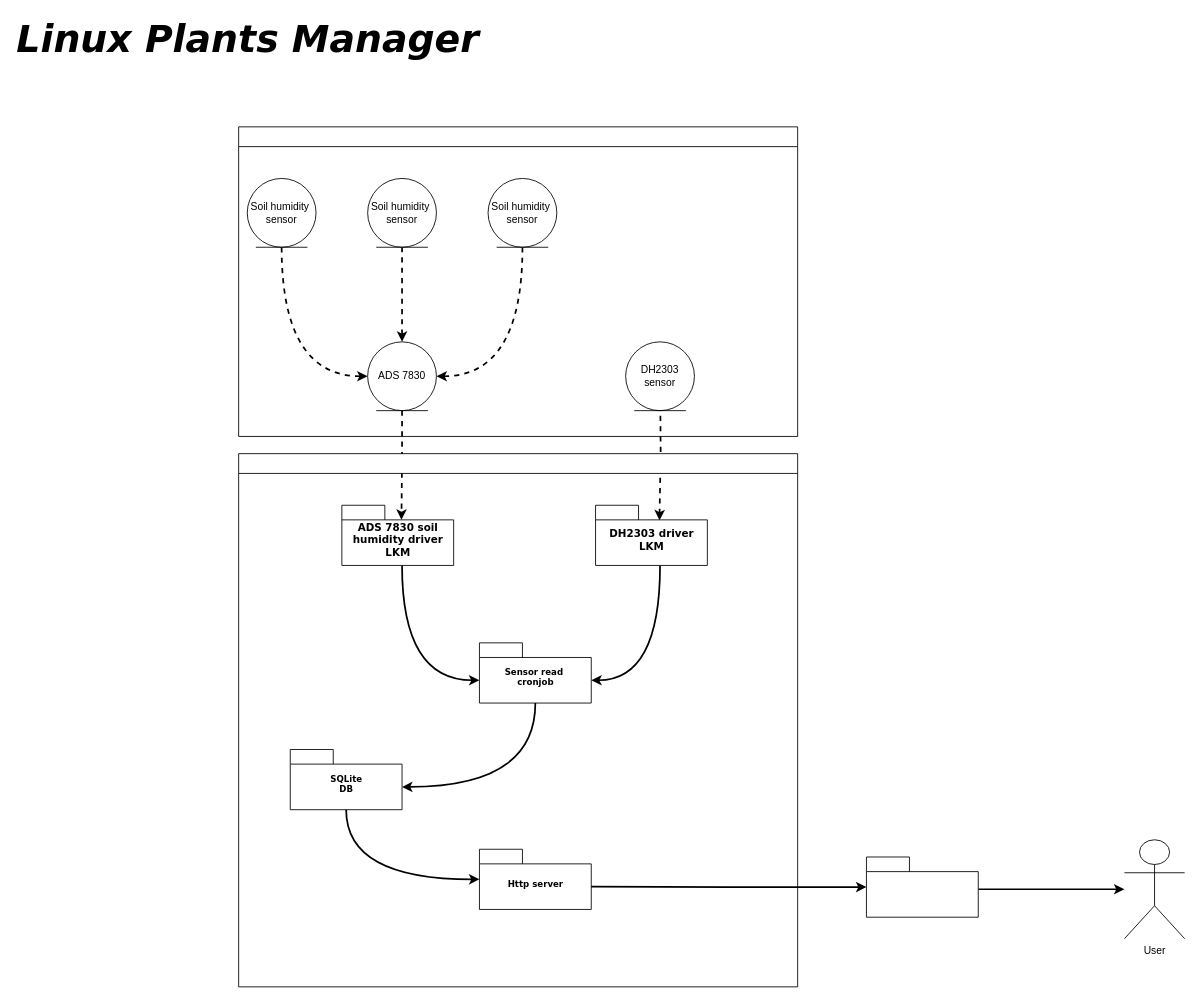
Some shapes in this 1200 by 1002 pixel diagram are drawn without their labels. Each missing label, with the centre of its shape:
Custom hat: (518,281)
Raspberry pi: (518,720)
Web browser: (922,886)
